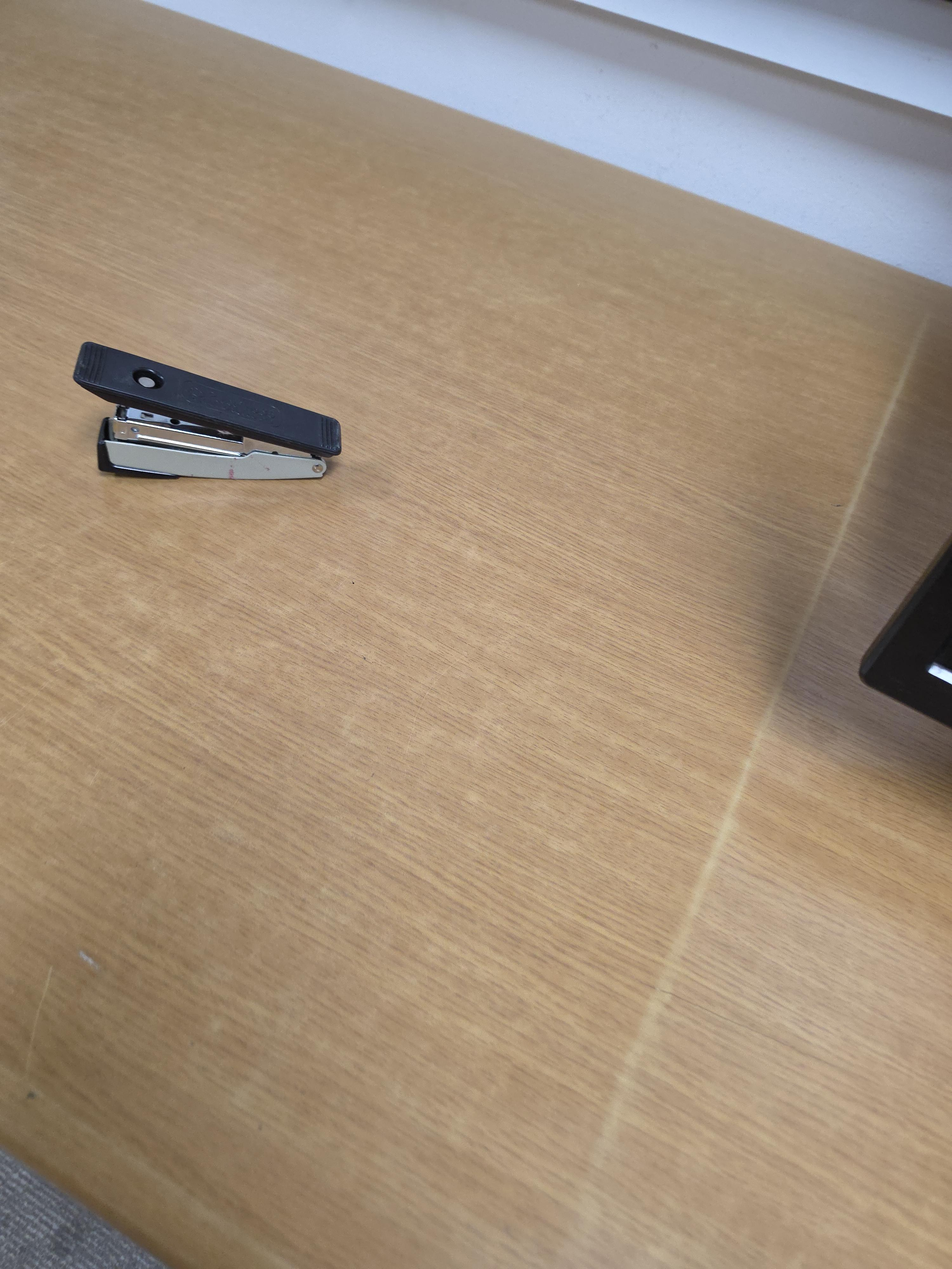stapler: (71, 341, 343, 482)
